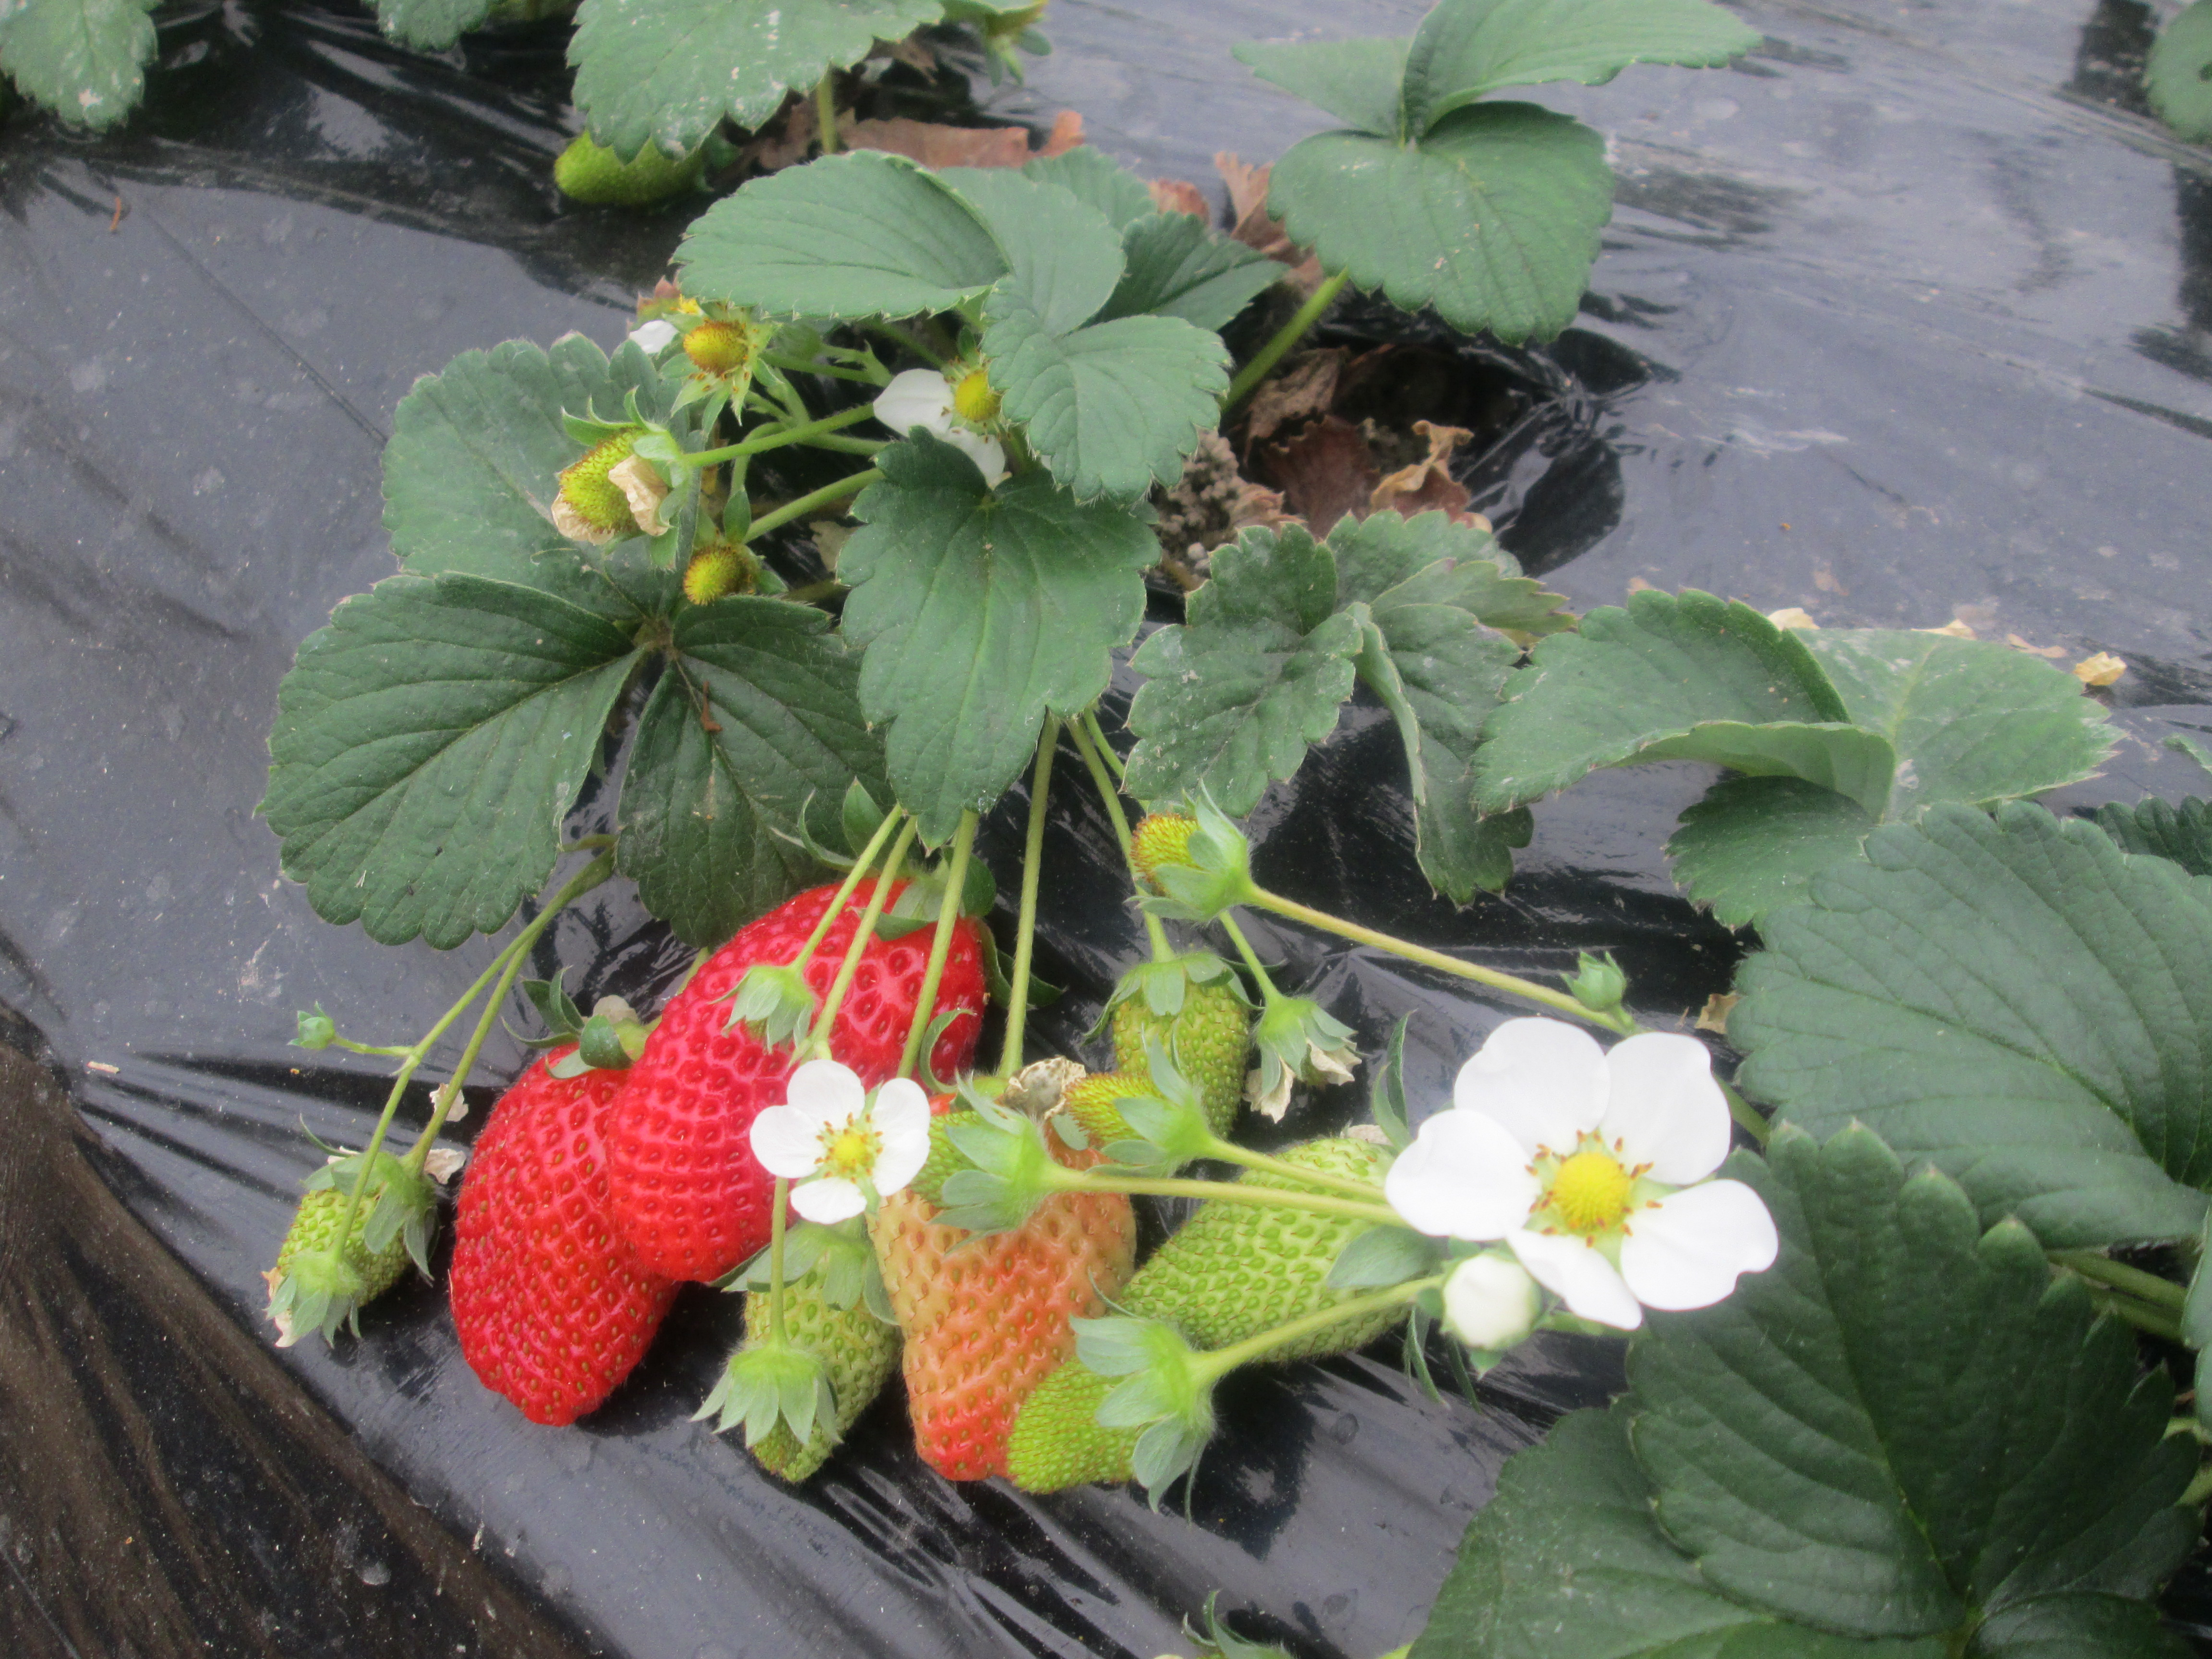StrawberryIrremovable: (869, 1094, 1137, 1476), (1111, 1124, 1418, 1359), (725, 1227, 895, 1483), (1010, 1330, 1205, 1493), (254, 1148, 437, 1323), (1106, 951, 1258, 1148), (547, 101, 730, 207), (550, 420, 700, 545), (1062, 1072, 1219, 1171), (1130, 809, 1249, 922), (735, 1352, 831, 1476), (678, 308, 756, 385), (946, 361, 1010, 432), (681, 545, 742, 605)
StrawberryRemovable: (604, 850, 979, 1290), (442, 1025, 688, 1438)
StrawberryWedge: (601, 849, 982, 1290), (439, 1019, 691, 1441)
